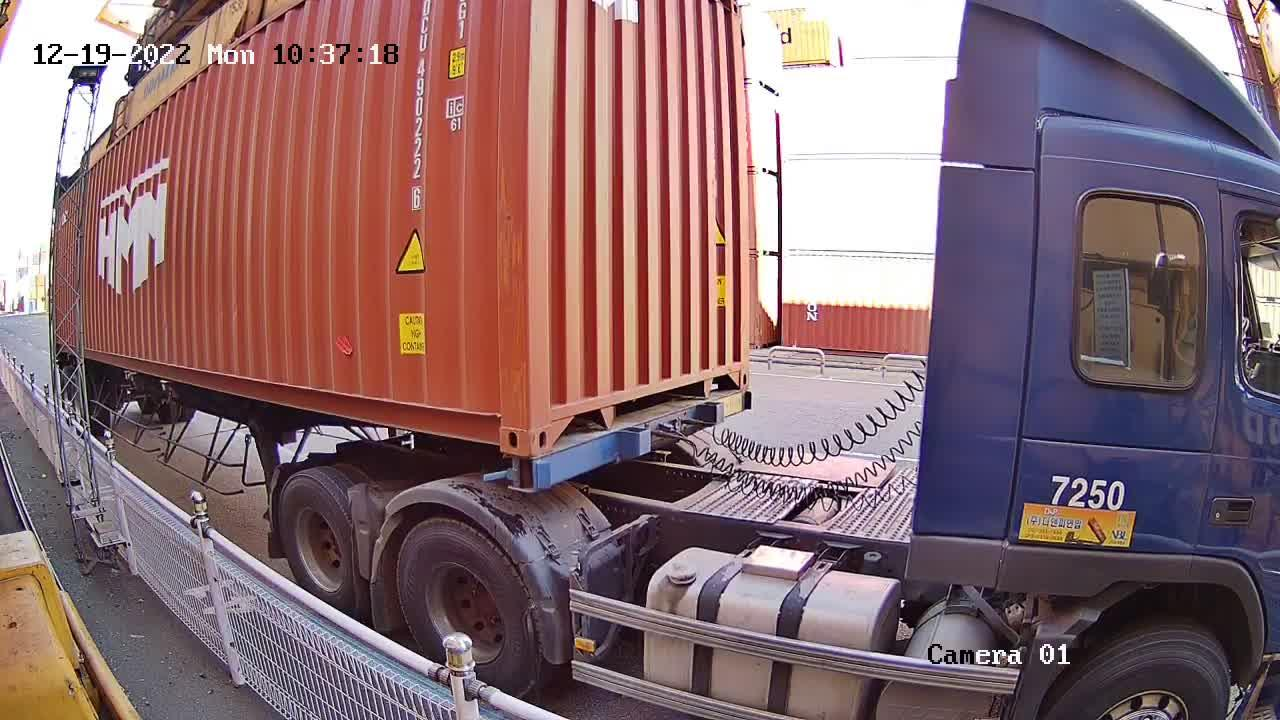Chassis: (532, 388, 753, 489)
Cone: (501, 455, 537, 491)
Hole_L: (528, 390, 574, 457)
Hole_R: (476, 391, 527, 457), (716, 346, 751, 394)
Tire: (401, 525, 532, 685), (279, 479, 353, 599)
